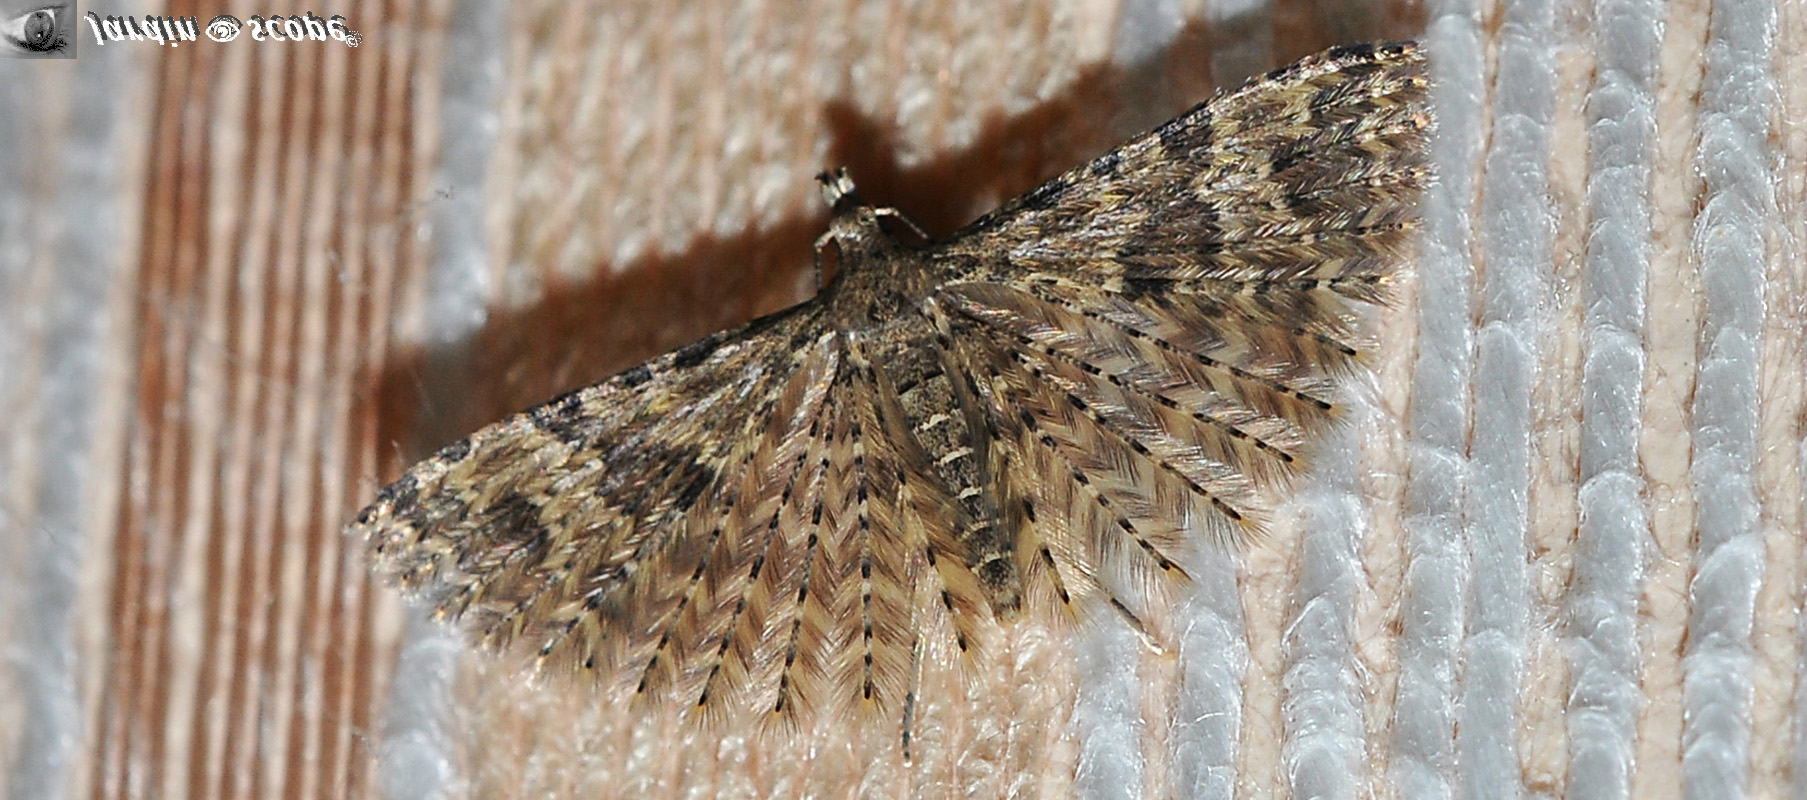Alucitidae: (332, 39, 1467, 744)
moth: (334, 41, 1469, 745)
